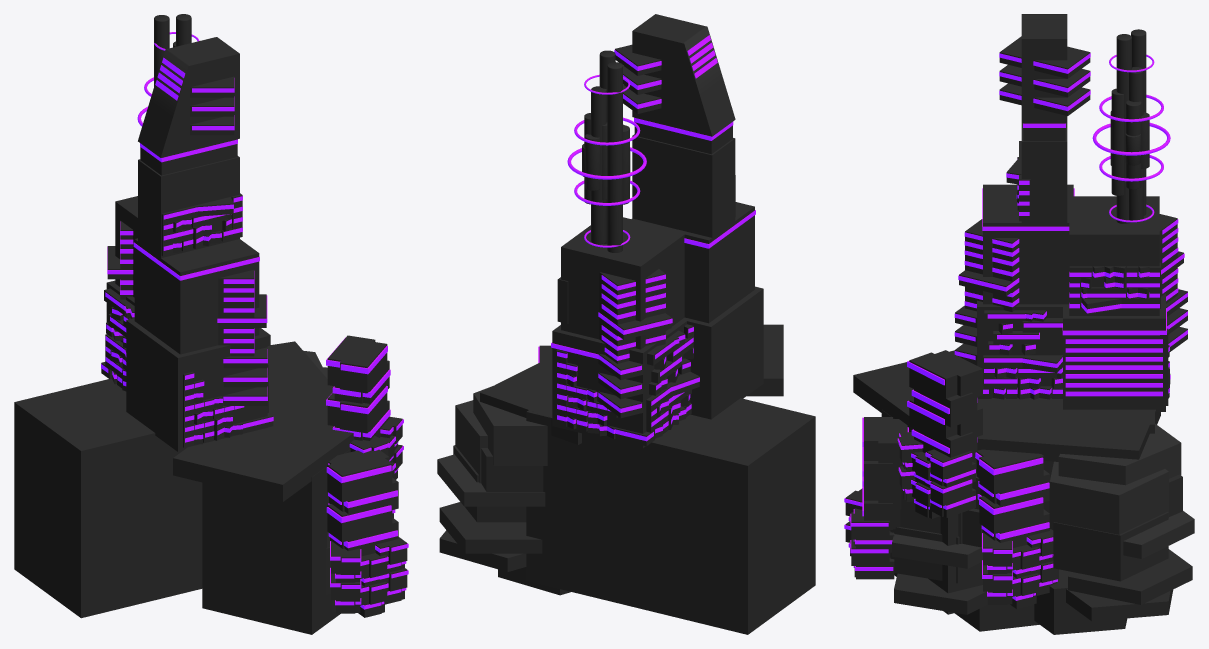
Rendered from towerpile.fbx.
3 views of the same model, side by side, from view 1: azimuth 30°, elevation 25°; view 2: azimuth 150°, elevation 25°; view 3: azimuth 270°, elevation 25° (orthographic).
Visible parts, largest first — view 1: Cube_2_26, Cube_3_26, Cube_7_88, Cube_31_3, Cube_6_89, Cube_108, Cube_1_31, Cube_3_30, Cube_3_62, Cube_6_15, Cube_1_67, Cube_3_61 (+10 smaller); view 2: Cube_2_26, Cube_7_88, Cube_6_15, Cube_108, Cube_6_89, Cube_30_2, Tube_2_4, Tube_0_5, Cube_1_31, Cylinder_10, Tube_0_4, Tube_2_5 (+16 smaller); view 3: Cube_7_88, Cube_1_31, Cube_30_2, Cube_6_89, Cube_6_15, Tube_1_4, Tube_1_5, Cube_31_3, Tube_2_4, Tube_0_5, Tube_0_2, Tube_1_3 (+35 smaller).
Boxes of the visible parts, x1,y1,x2,y2 form: Cube_2_26: (14,379,202,618); Cube_3_26: (202,449,350,634); Cube_7_88: (138,37,239,258); Cube_31_3: (173,389,354,501); Cube_6_89: (134,238,259,354); Cube_108: (126,318,267,451); Cube_1_31: (267,341,333,425); Cube_3_30: (340,351,377,393); Cube_3_62: (327,459,366,502); Cube_6_15: (115,196,137,297); Cube_1_67: (327,504,367,542); Cube_3_61: (352,456,392,496); Cube_2_26: (526,398,815,634); Cube_7_88: (632,14,735,237); Cube_6_15: (561,217,686,349); Cube_108: (682,286,763,419); Cube_6_89: (629,202,754,323); Cube_30_2: (552,318,689,447); Tube_2_4: (473,386,547,465); Tube_0_5: (439,502,542,553); Cube_1_31: (480,356,581,444); Cylinder_10: (607,62,622,252); Tube_0_4: (437,454,545,506); Tube_2_5: (481,448,543,491); Cube_7_88: (1021,14,1067,223); Cube_1_31: (977,398,1160,461); Cube_30_2: (1063,293,1165,411); Cube_6_89: (983,184,1073,304); Cube_6_15: (1069,196,1159,315); Tube_1_4: (1049,461,1168,534); Tube_1_5: (1053,512,1168,581); Cube_31_3: (853,350,1055,430); Tube_2_4: (1058,423,1181,485); Tube_0_5: (1068,549,1192,604); Tube_0_2: (894,573,986,614); Tube_1_3: (1034,569,1127,634).
Bounding box in the file's own units: 6289 × 10507 × 6126.
